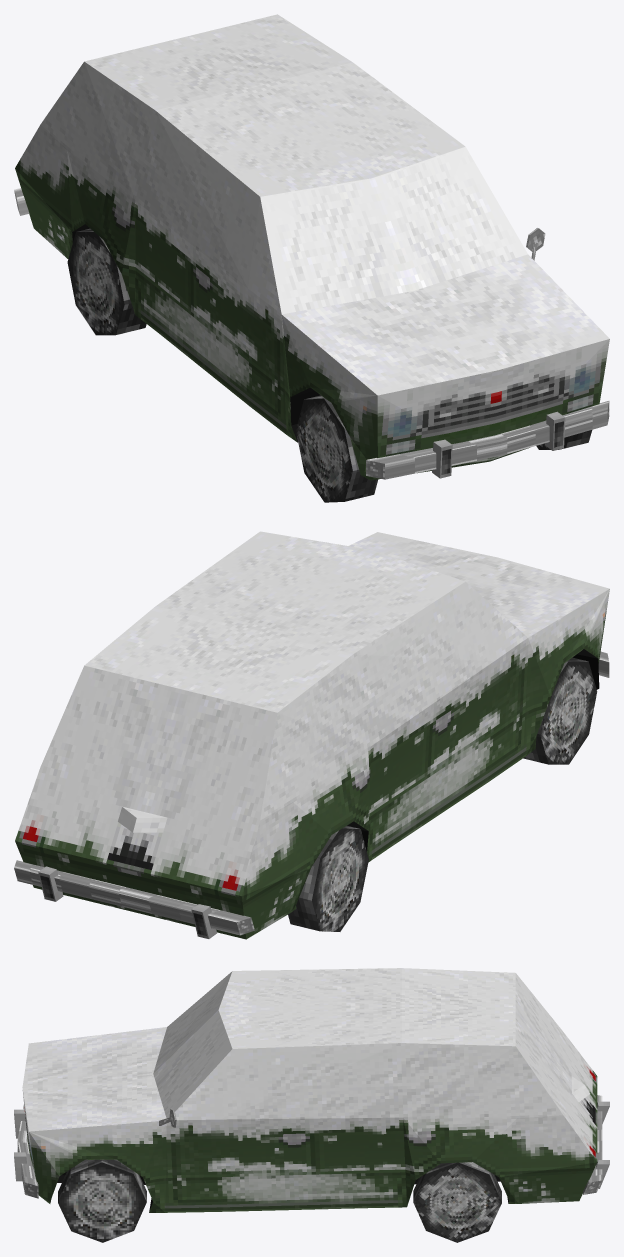
The model's file is car_sedan_snow.glb.
The picture shows the model from 3 angles, top to bottom: view 1: azimuth 30°, elevation 25°; view 2: azimuth 150°, elevation 25°; view 3: azimuth 270°, elevation 25°; orthographic projection. The views are drawn at different scales.
Visible parts, largest first — view 1: Car; view 2: Car; view 3: Car.
Boxes of the visible parts, left/top/right/bottom form: Car: left=14, top=14, right=609, bottom=502; Car: left=14, top=531, right=609, bottom=939; Car: left=14, top=968, right=609, bottom=1242.
Bounding box in the file's own units: 1.83 × 1.56 × 4.4.
Materials: 1 (1 with a texture image).
